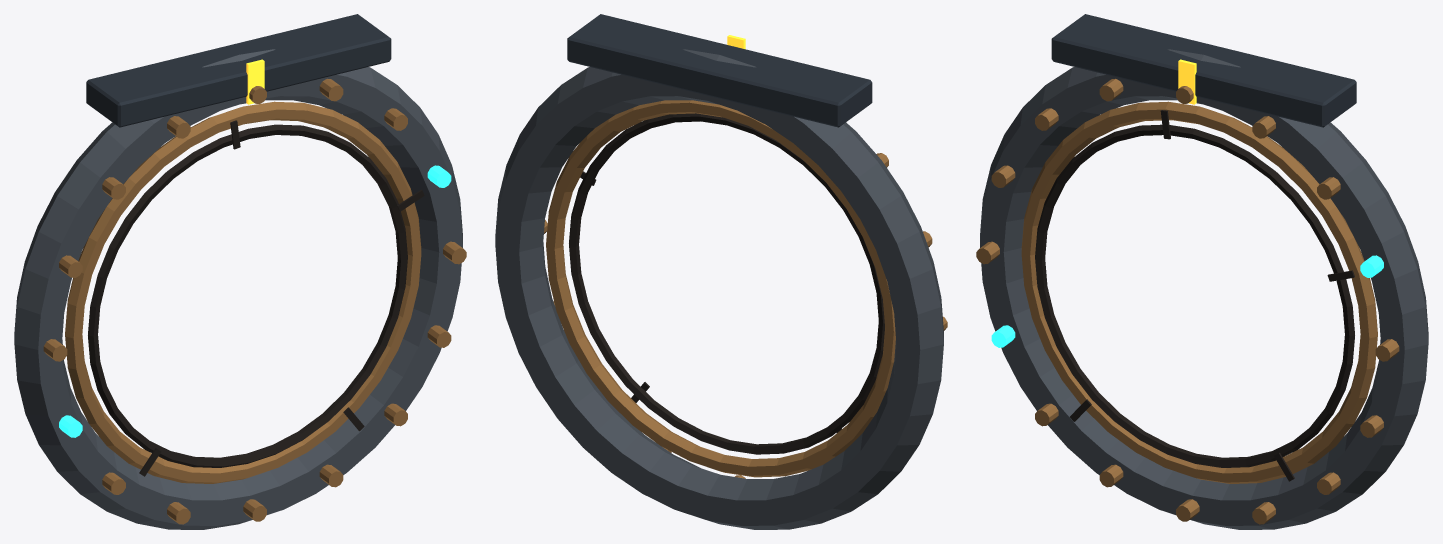
The model's file is runtime.glb.
The picture shows the model from 3 angles, left to right: view 1: azimuth 30°, elevation 25°; view 2: azimuth 150°, elevation 25°; view 3: azimuth 330°, elevation 25°; orthographic projection.
Visible parts, largest first — view 1: kinetic-tide-bearing-flange-v07_plate_nocol, kinetic-tide-bearing-flange-v07_bronze_nocol, kinetic-tide-bearing-flange-v07_steel_nocol, kinetic-tide-bearing-flange-v07_weardark_nocol, kinetic-tide-bearing-flange-v07_cyansignal_nocol, kinetic-tide-bearing-flange-v07_warningorange_nocol; view 2: kinetic-tide-bearing-flange-v07_plate_nocol, kinetic-tide-bearing-flange-v07_bronze_nocol, kinetic-tide-bearing-flange-v07_steel_nocol, kinetic-tide-bearing-flange-v07_weardark_nocol; view 3: kinetic-tide-bearing-flange-v07_plate_nocol, kinetic-tide-bearing-flange-v07_bronze_nocol, kinetic-tide-bearing-flange-v07_steel_nocol, kinetic-tide-bearing-flange-v07_weardark_nocol, kinetic-tide-bearing-flange-v07_cyansignal_nocol, kinetic-tide-bearing-flange-v07_warningorange_nocol.
Part boxes in pixels (x1,y1,x2,y2): kinetic-tide-bearing-flange-v07_plate_nocol: (14, 49, 462, 529); kinetic-tide-bearing-flange-v07_bronze_nocol: (43, 78, 466, 524); kinetic-tide-bearing-flange-v07_steel_nocol: (86, 14, 391, 127); kinetic-tide-bearing-flange-v07_weardark_nocol: (88, 120, 424, 476); kinetic-tide-bearing-flange-v07_cyansignal_nocol: (59, 165, 451, 437); kinetic-tide-bearing-flange-v07_warningorange_nocol: (246, 59, 264, 104); kinetic-tide-bearing-flange-v07_plate_nocol: (495, 49, 943, 529); kinetic-tide-bearing-flange-v07_bronze_nocol: (544, 100, 947, 478); kinetic-tide-bearing-flange-v07_steel_nocol: (567, 14, 872, 127); kinetic-tide-bearing-flange-v07_weardark_nocol: (569, 113, 884, 454); kinetic-tide-bearing-flange-v07_plate_nocol: (980, 49, 1428, 529); kinetic-tide-bearing-flange-v07_bronze_nocol: (976, 78, 1399, 524); kinetic-tide-bearing-flange-v07_steel_nocol: (1051, 14, 1356, 127); kinetic-tide-bearing-flange-v07_weardark_nocol: (1035, 110, 1354, 481); kinetic-tide-bearing-flange-v07_cyansignal_nocol: (991, 255, 1383, 347); kinetic-tide-bearing-flange-v07_warningorange_nocol: (1178, 59, 1196, 104).
Bounding box in the file's own units: 8.68 × 8.77 × 1.27.
